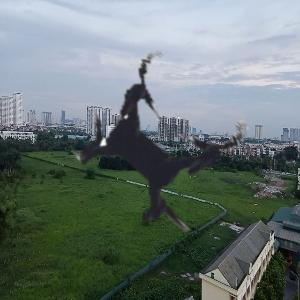drone: (9, 1, 299, 291)
